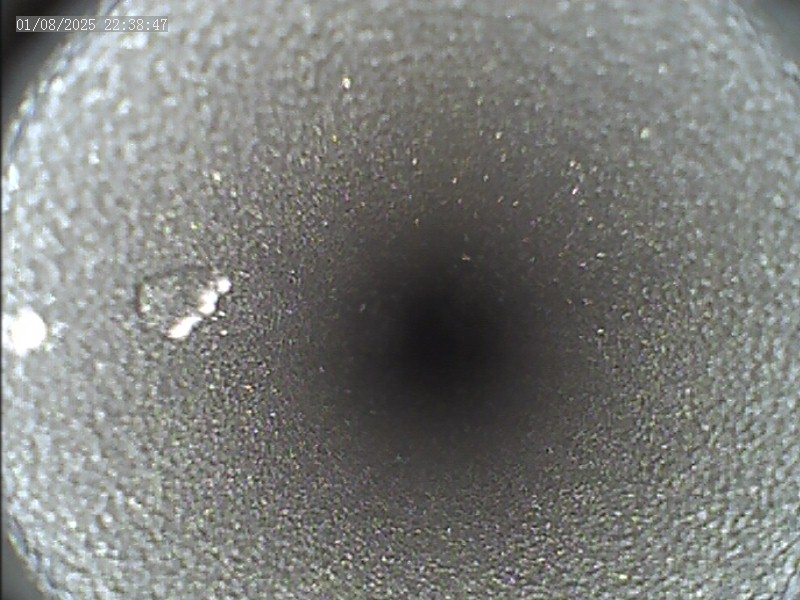defective_area: (1, 262, 232, 364)
